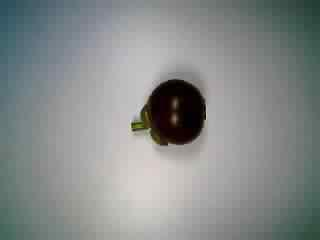mangosteen: (128, 74, 207, 157)
